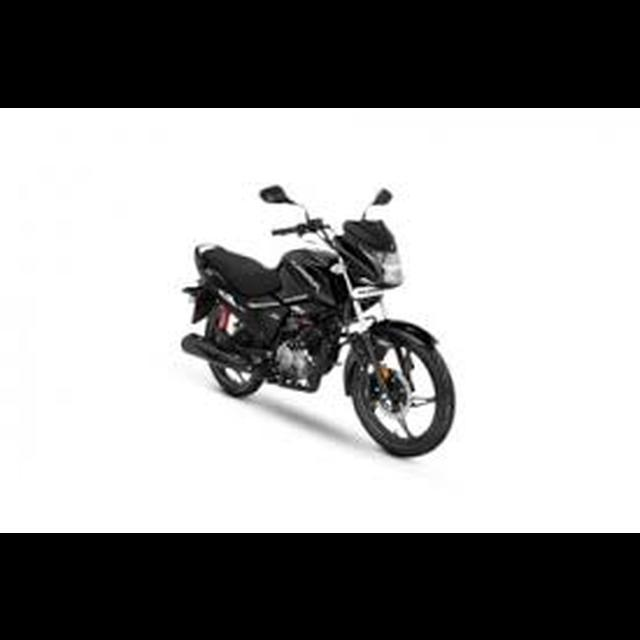motorcycle: (175, 177, 459, 462)
